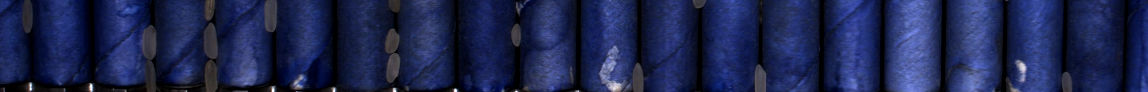broken_grain: (630, 61, 647, 92), (384, 26, 402, 55), (753, 62, 770, 92), (1061, 70, 1076, 92)
complete_grain: (202, 23, 220, 60), (141, 24, 158, 62), (383, 53, 402, 84), (20, 1, 36, 34), (263, 1, 277, 35), (144, 60, 157, 92), (508, 22, 522, 49)
yellow_grain: (204, 60, 219, 92), (204, 1, 216, 22)
